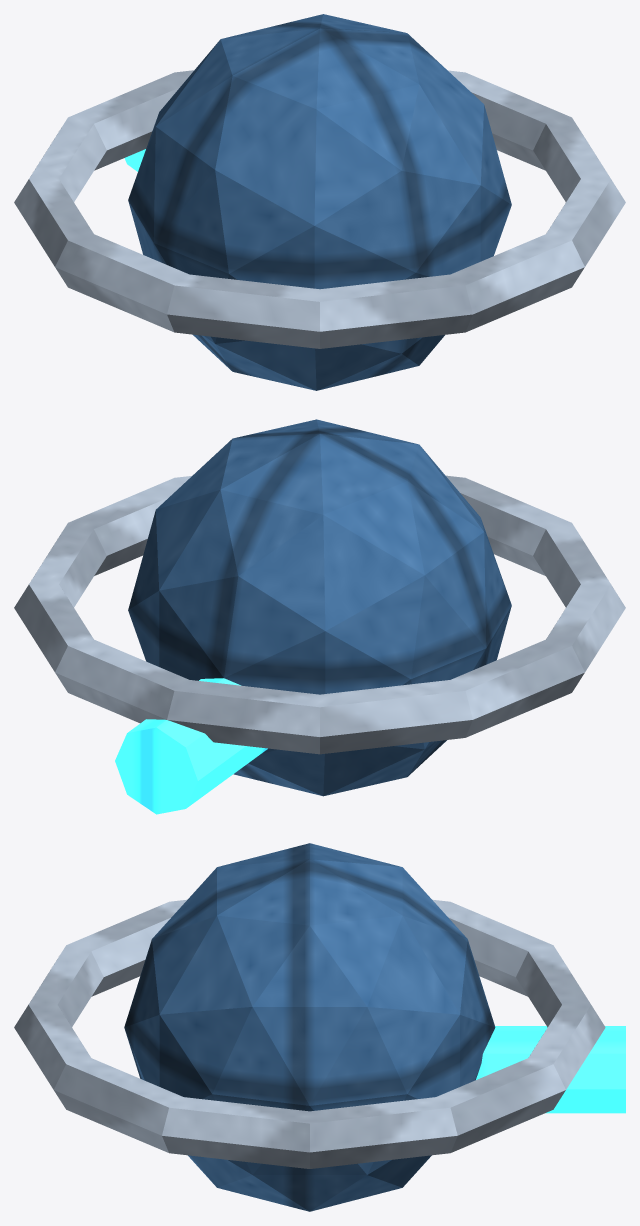
Rendered from drone_orbiter.glb.
The picture shows the model from 3 angles, top to bottom: view 1: azimuth 30°, elevation 25°; view 2: azimuth 150°, elevation 25°; view 3: azimuth 270°, elevation 25°; orthographic projection. The views are drawn at different scales.
Visible parts, largest first — view 1: drone_orbiter; view 2: drone_orbiter; view 3: drone_orbiter.
Boxes of the visible parts, x1,y1,x2,y2 form: drone_orbiter: (14, 14, 625, 390); drone_orbiter: (14, 419, 625, 814); drone_orbiter: (14, 843, 625, 1211).
Bounding box in the file's own units: 1.02 × 0.64 × 1.06.
Materials: 1 (1 with a texture image).
